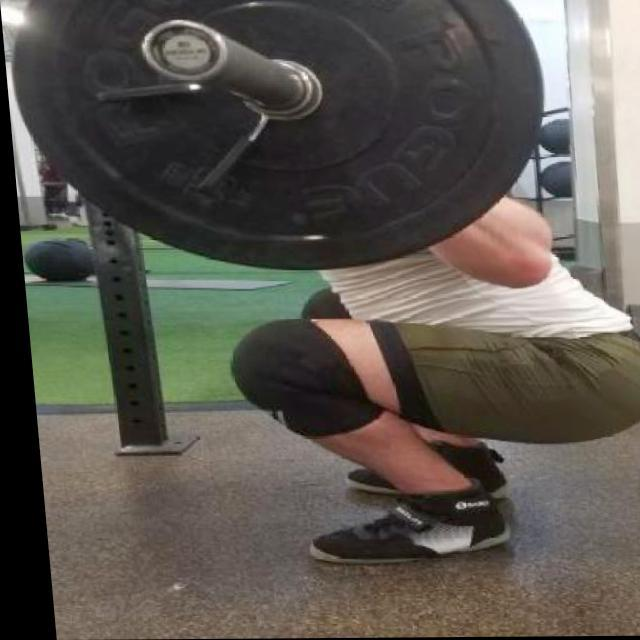barbell: (1, 1, 562, 280)
